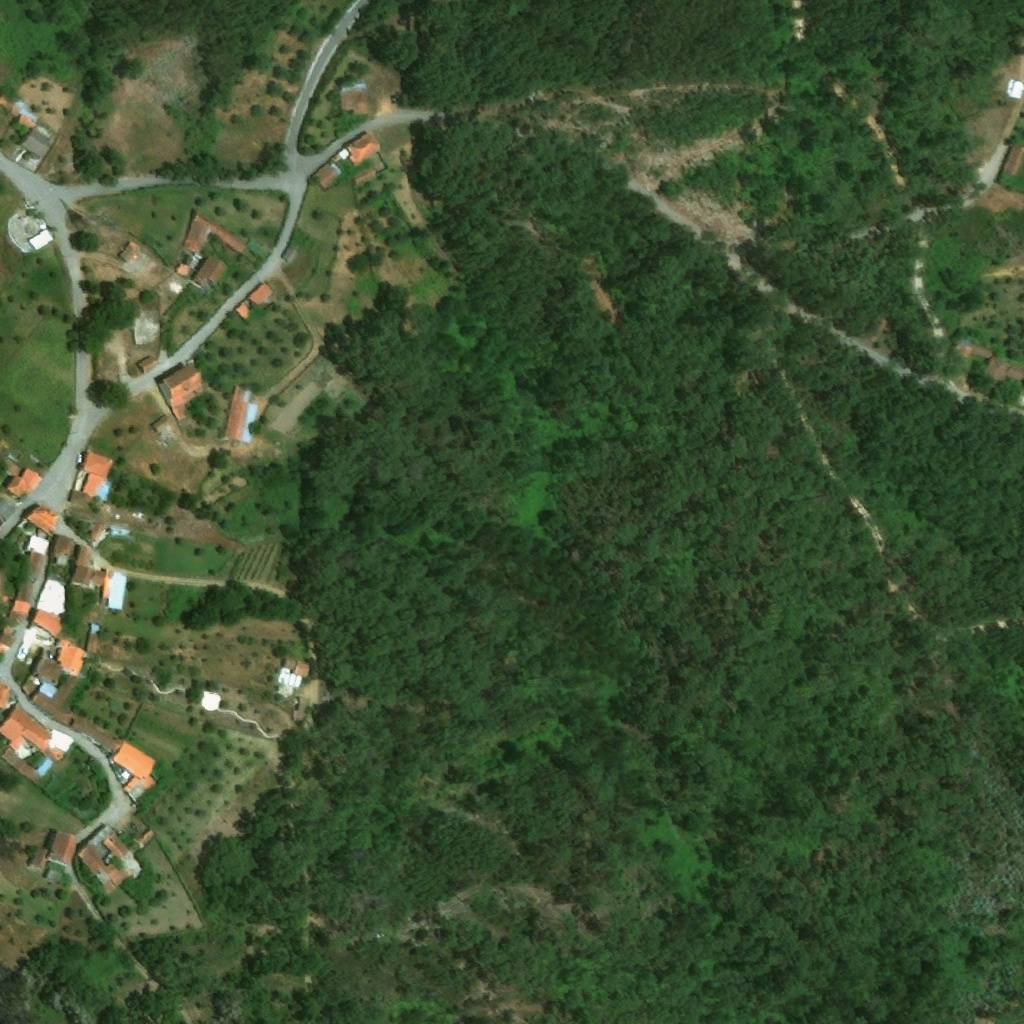0 no-damage: (30, 674, 121, 750), (0, 705, 74, 765), (78, 823, 127, 894), (158, 360, 210, 421), (184, 211, 251, 255), (224, 386, 260, 445), (15, 546, 50, 605), (234, 281, 279, 324), (113, 740, 159, 776), (14, 625, 53, 667), (1, 749, 44, 786), (69, 545, 105, 588), (346, 132, 384, 168), (7, 467, 43, 502), (193, 254, 230, 288), (56, 635, 89, 673), (24, 503, 62, 535), (47, 829, 78, 867), (37, 578, 68, 616), (35, 657, 63, 698), (124, 775, 158, 804), (23, 129, 54, 160), (310, 161, 342, 191), (340, 88, 371, 118), (82, 451, 115, 479), (83, 472, 112, 503), (32, 609, 64, 637), (104, 832, 130, 861), (8, 598, 32, 627), (132, 826, 158, 851), (53, 534, 77, 561), (0, 496, 19, 529), (28, 229, 55, 252), (101, 567, 119, 599), (119, 240, 142, 265), (27, 844, 47, 869), (25, 535, 51, 553), (153, 414, 175, 435), (138, 354, 161, 374), (281, 242, 301, 265), (0, 627, 17, 654), (88, 624, 103, 654), (69, 488, 93, 506), (89, 521, 107, 541), (331, 148, 350, 165), (20, 204, 37, 221), (26, 156, 42, 172), (46, 867, 61, 884), (176, 262, 192, 277)
4 un-classified: (1000, 144, 1023, 178), (0, 682, 11, 723), (1003, 81, 1022, 102), (0, 569, 10, 602), (0, 106, 9, 123), (122, 223, 132, 232), (395, 89, 402, 96)
